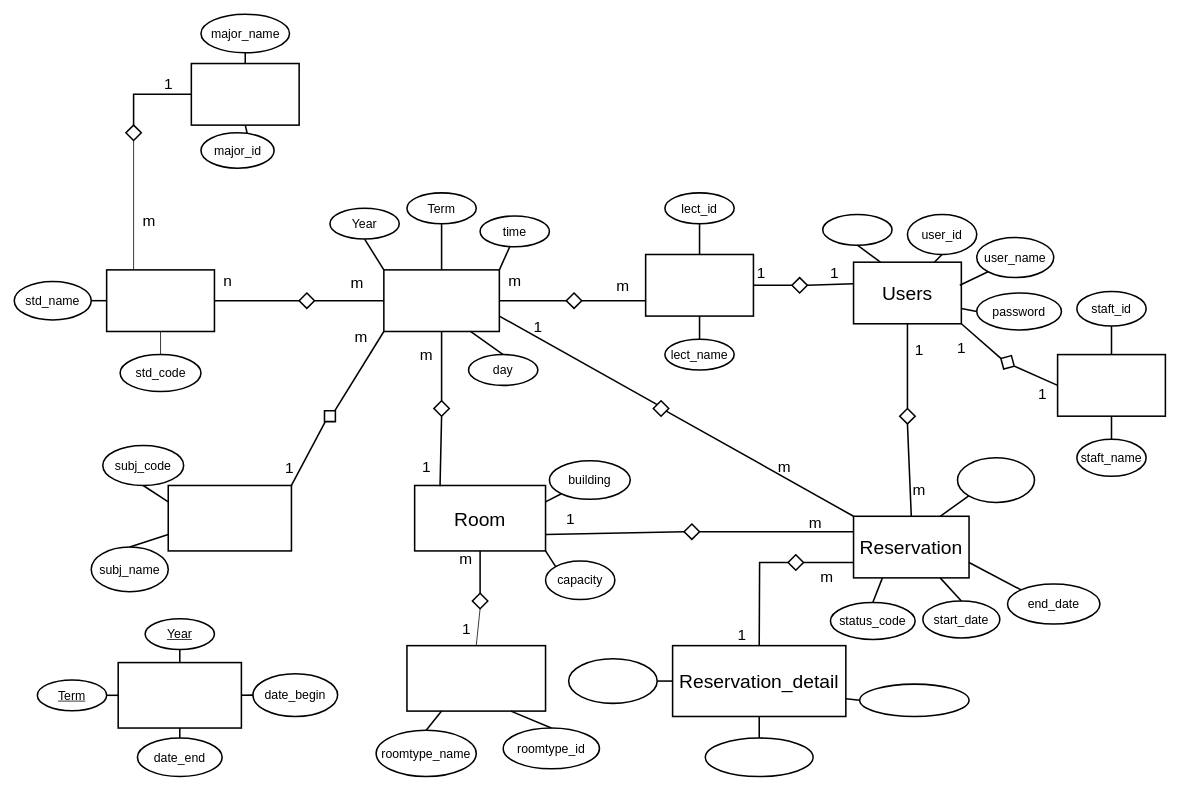
This 1179x790 diagram has some shape labels left out. The shapes that lost their labels are listed below. From the top down, each one's centre as x and y in pixels, then its label:
At [245,94]: "Major".
At [857,229]: "role".
At [160,300]: "Student".
At [441,300]: "Course".
At [699,284]: "Lecturer".
At [1111,385]: "Staft".
At [995,480]: "Tran_dt".
At [229,517]: "Subject".
At [179,694]: "Calendar".
At [476,677]: "RoomType".
At [612,681]: "reservation_id".
At [914,700]: "reservation_date".
At [759,757]: "reservation_time".
